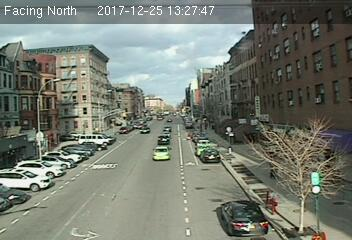car: (219, 198, 269, 236), (198, 148, 219, 163), (151, 146, 172, 160), (157, 134, 170, 144)
